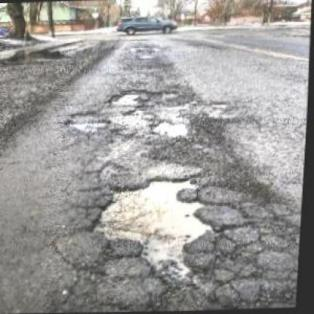Hueco: (84, 171, 226, 287), (65, 110, 113, 133), (149, 119, 192, 140), (107, 87, 151, 107), (121, 104, 155, 118), (210, 100, 230, 109)
